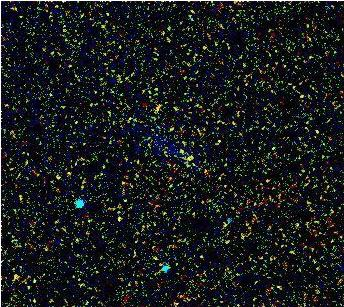star: (171, 142, 201, 172)
